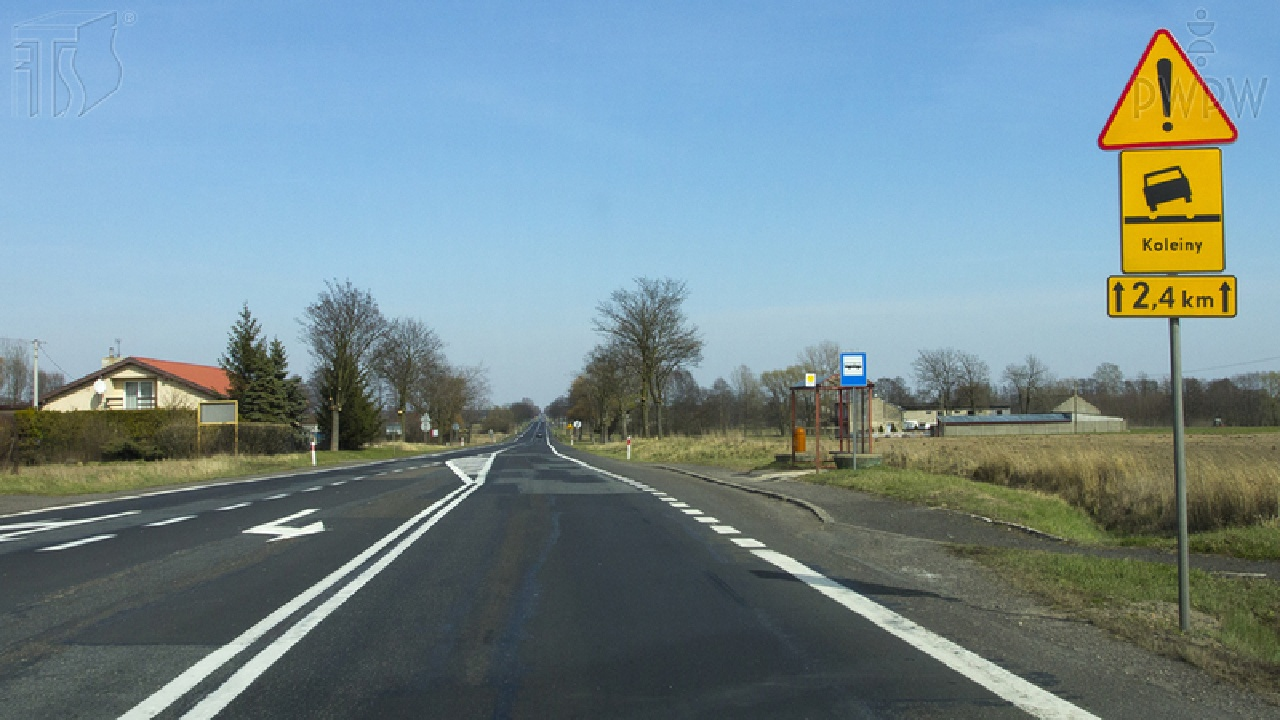A30: (1094, 27, 1240, 147)
